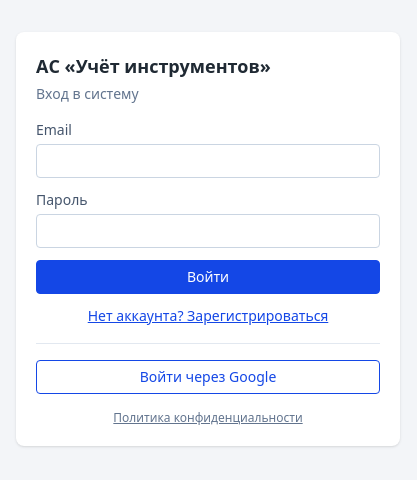
Scenario: authentication and roles › wrong password: shows the server message, keeps the email, clears the password
Step 1. Type "ivan@test.ru" into the field labelled "Email" → (208, 161), box [36,144,380,178]
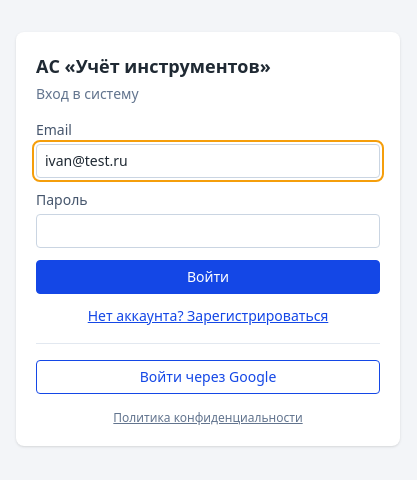
Step 2. Type "wrong-pass" into the password field labelled "Пароль" → (208, 231), box [36,214,380,248]
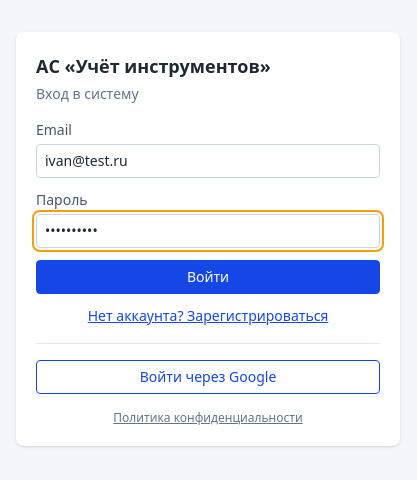
Step 3. Click the button "Войти" → (208, 277), box [36,260,380,294]
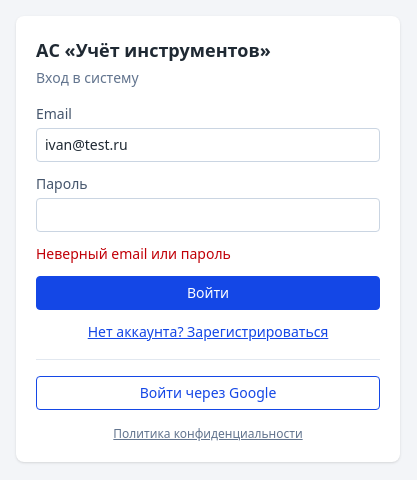
Check: the text "Неверный email или пароль" is shown, box [36,244,231,263]
Check: the password field labelled "Пароль" is empty, box [36,198,380,232]
